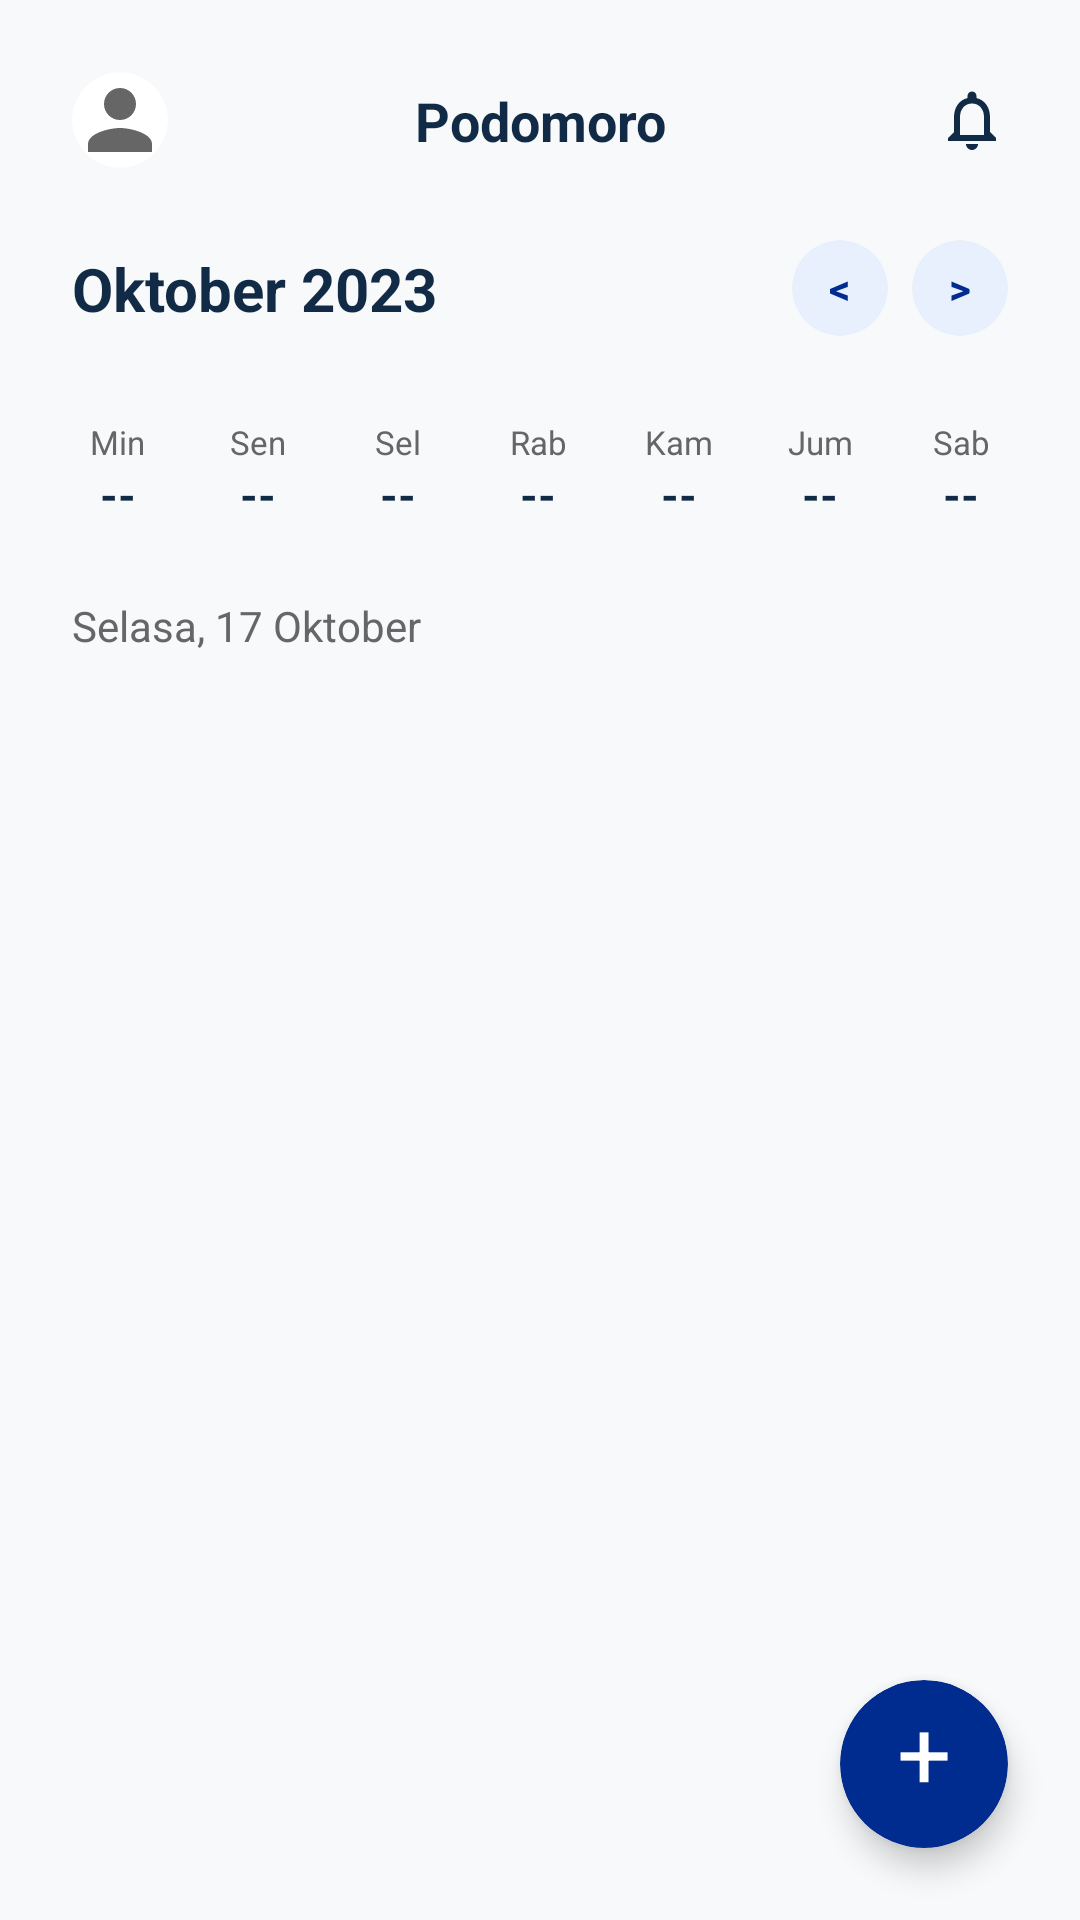

Icons on this 1080 x 1920 Android screen, each with the point to tap as point (x, y):
notification: point (972, 120)
person: point (120, 120)
